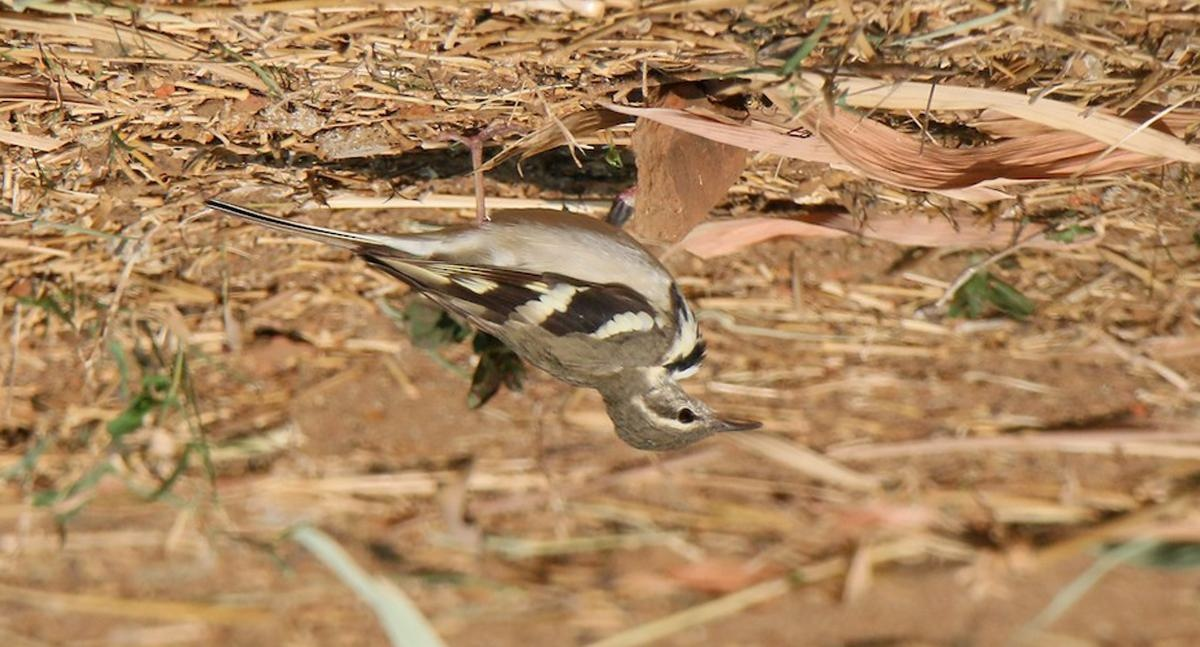wagtail: (283, 170, 787, 467)
